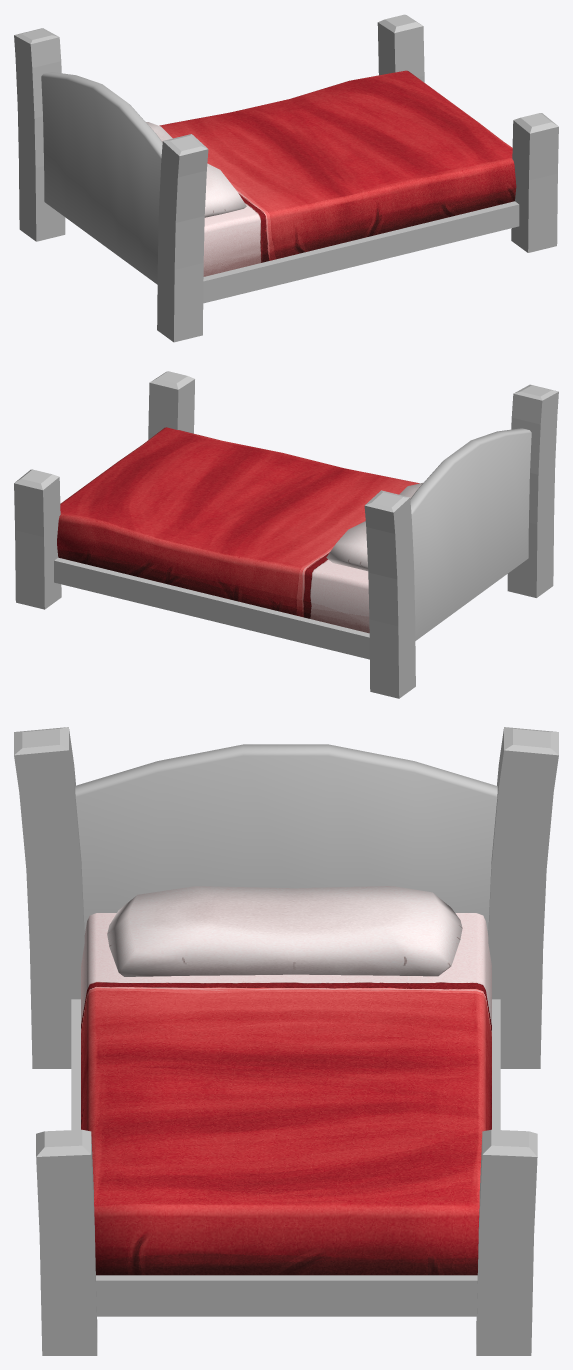
The model's file is Bed.fbx.
The picture shows the model from 3 angles, top to bottom: view 1: azimuth 30°, elevation 25°; view 2: azimuth 150°, elevation 25°; view 3: azimuth 270°, elevation 25°; orthographic projection. The views are drawn at different scales.
Visible parts, largest first — view 1: Bedwood, Bed; view 2: Bedwood, Bed; view 3: Bed, Bedwood.
Part boxes in pixels (bbox=[...]): Bedwood: bbox=[14, 14, 558, 342]; Bed: bbox=[146, 70, 516, 276]; Bedwood: bbox=[14, 371, 558, 698]; Bed: bbox=[57, 427, 423, 633]; Bed: bbox=[81, 886, 491, 1275]; Bedwood: bbox=[14, 727, 558, 1355].
Bounding box in the file's own units: 649 × 312 × 481.
